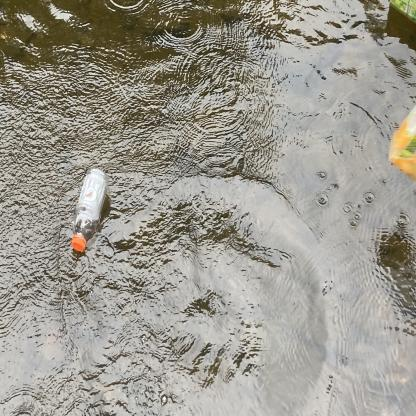trash: (64, 163, 114, 257), (385, 101, 416, 192), (382, 0, 416, 30)
